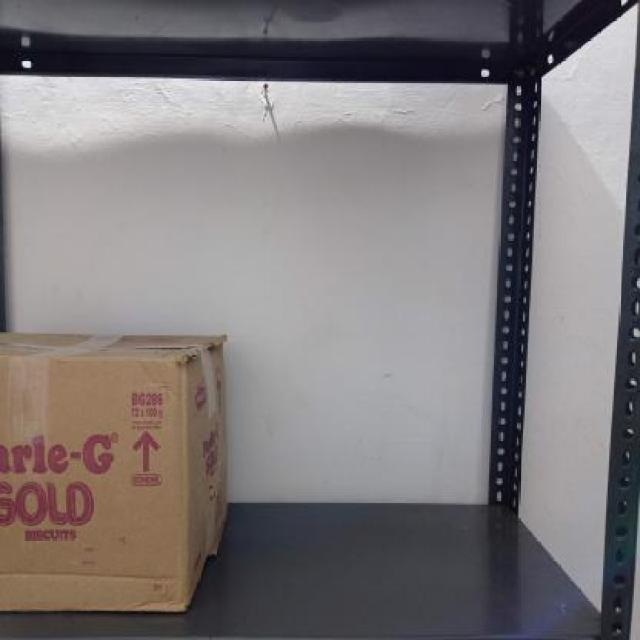box: (0, 356, 189, 615)
